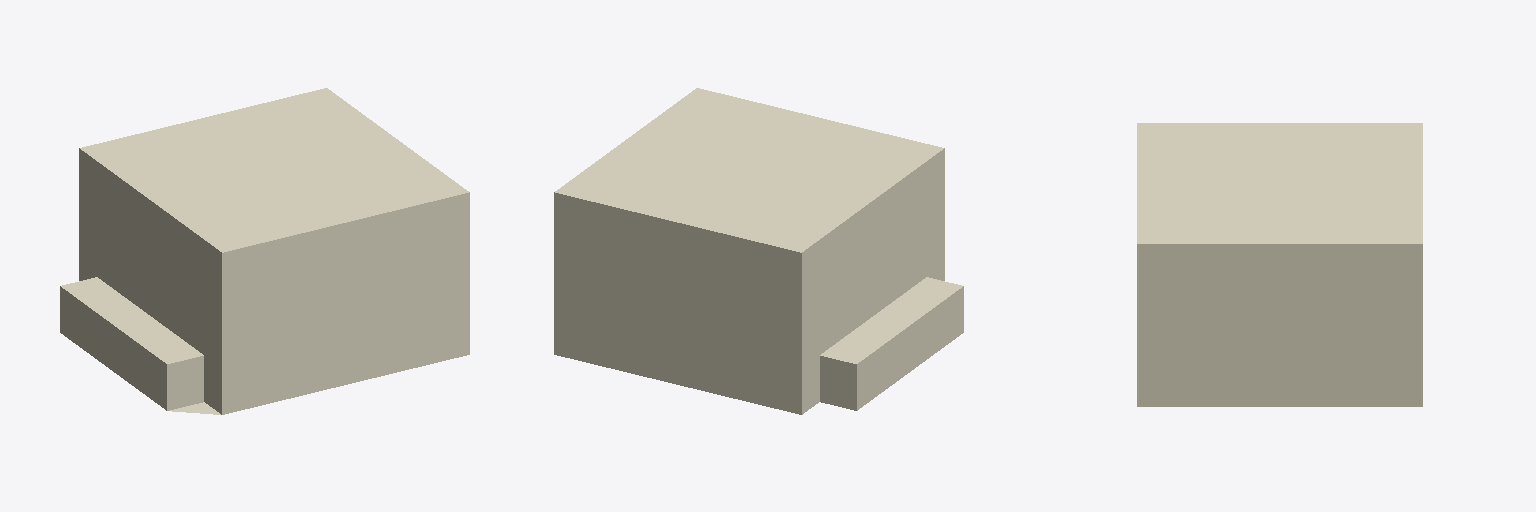
Rendered from modularBuildings_046and42.obj.
3 renders of one model, left to right at view 1: azimuth 30°, elevation 25°; view 2: azimuth 150°, elevation 25°; view 3: azimuth 270°, elevation 25°, orthographic.
Parts seen in each view (by area): view 1: Mesh1_Group1_Model.001, Mesh1_Group1_Model; view 2: Mesh1_Group1_Model.001, Mesh1_Group1_Model; view 3: Mesh1_Group1_Model, Mesh1_Group1_Model.001.
Boxes of the visible parts, x1,y1,x2,y2 form: Mesh1_Group1_Model.001: [60, 150, 469, 414]; Mesh1_Group1_Model: [79, 88, 469, 414]; Mesh1_Group1_Model.001: [554, 149, 963, 414]; Mesh1_Group1_Model: [554, 88, 944, 412]; Mesh1_Group1_Model: [1137, 123, 1422, 405]; Mesh1_Group1_Model.001: [1137, 245, 1422, 406].
Size of the model in its own units: 1.15 by 0.6266 by 1.